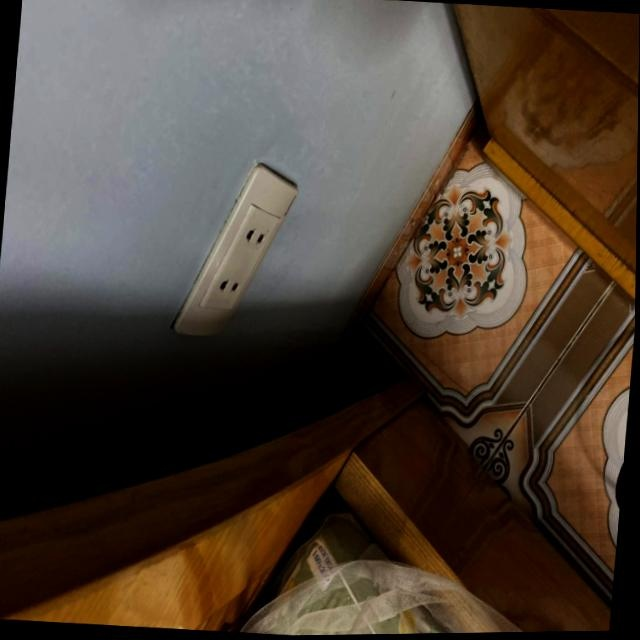outlet: (169, 156, 300, 343)
